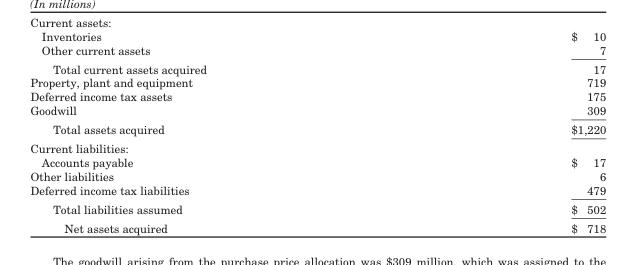table: (29, 28, 605, 234)
table column: (29, 28, 388, 234), (388, 28, 605, 234)
table projected row header: (29, 138, 605, 154)
table row: (29, 119, 605, 138), (29, 199, 605, 217), (29, 58, 605, 75), (29, 182, 605, 199), (29, 217, 605, 234), (29, 42, 605, 58), (29, 103, 605, 119), (29, 138, 605, 154), (29, 28, 605, 42), (29, 75, 605, 89), (29, 89, 605, 103), (29, 154, 605, 168), (29, 168, 605, 182)
